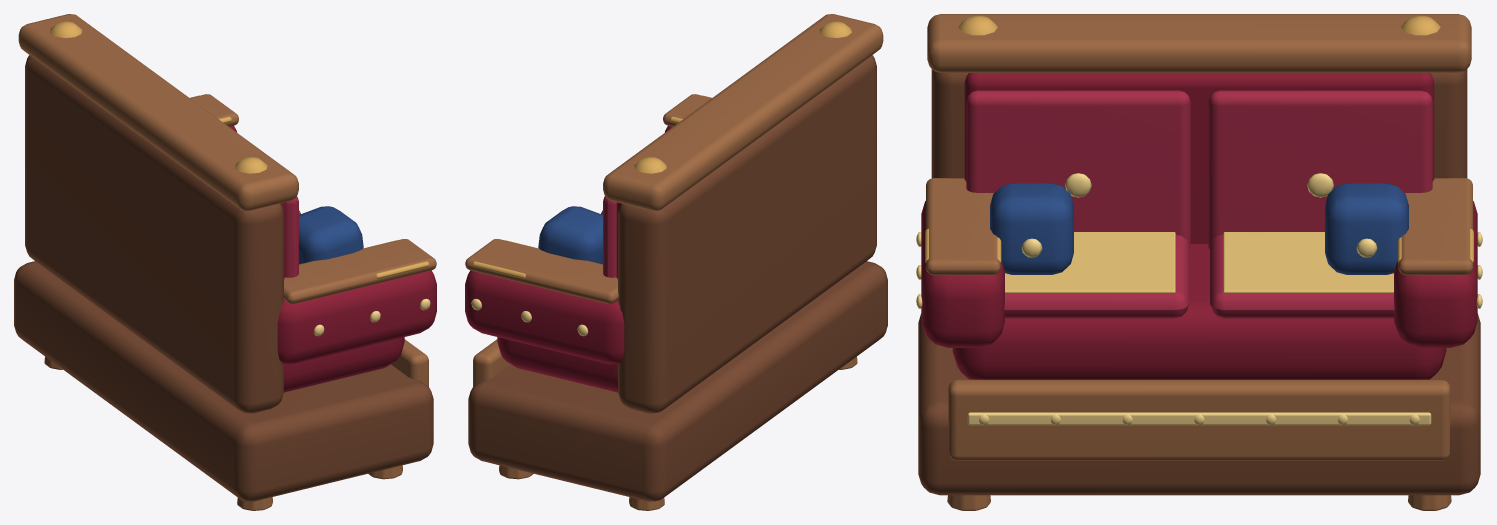
Rendered from sofa_luxo.glb.
3 renders of one model, left to right at view 1: azimuth 30°, elevation 25°; view 2: azimuth 150°, elevation 25°; view 3: azimuth 270°, elevation 25°, orthographic. The views are drawn at different scales.
Parts seen in each view (by area): view 1: Sofá | base de nogueira; view 2: Sofá | base de nogueira; view 3: Sofá | base de nogueira.
Part boxes in pixels (x1,y1,x2,y2): Sofá | base de nogueira: [14, 14, 436, 510]; Sofá | base de nogueira: [465, 14, 887, 510]; Sofá | base de nogueira: [916, 14, 1482, 510].
Bounding box in the file's own units: 0.953 × 1.51 × 1.89.
